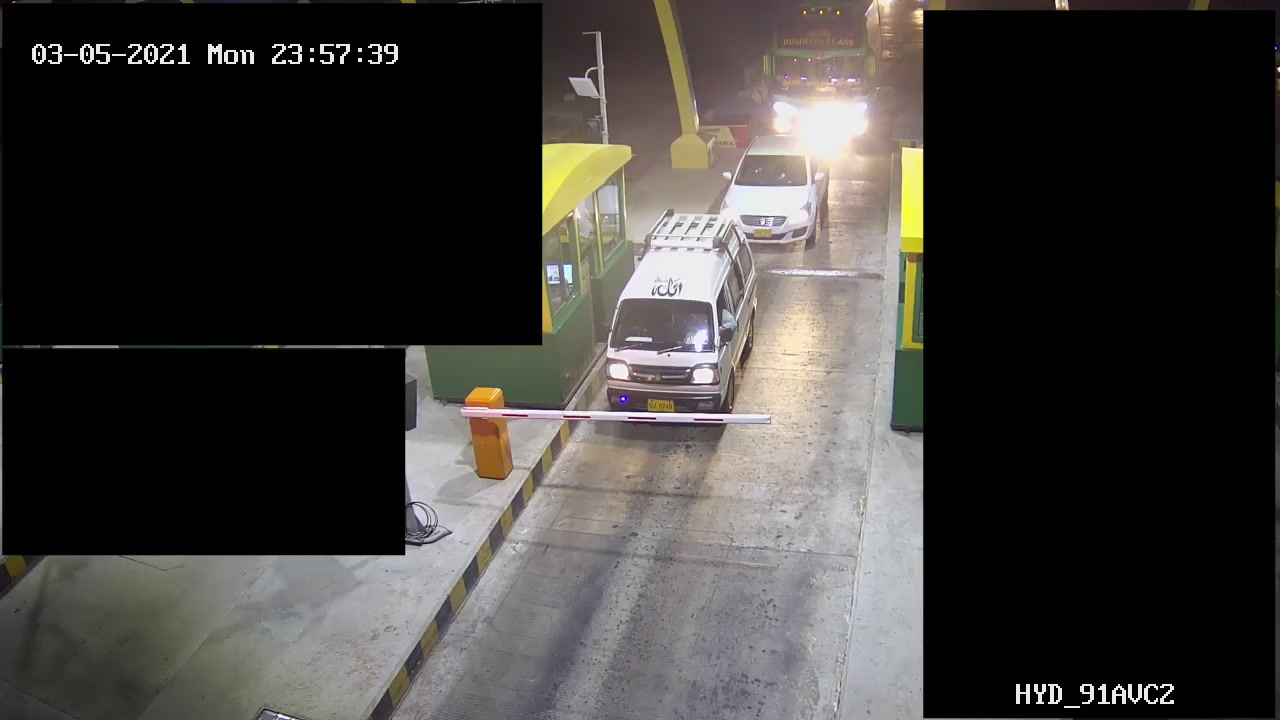F1: (606, 207, 757, 431), (713, 130, 845, 255)
